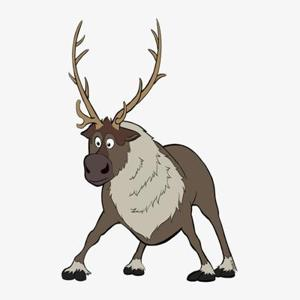sven: (49, 13, 262, 284)
